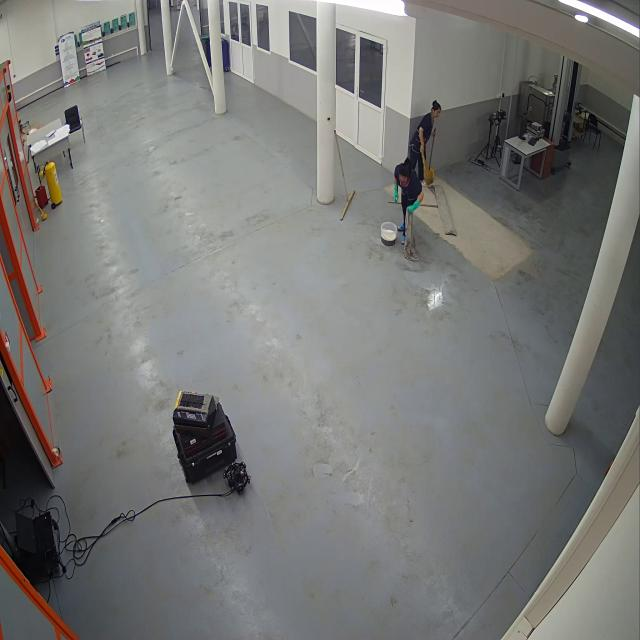NO-Hardhat: (396, 164, 407, 182), (432, 100, 442, 110)
Person: (390, 155, 426, 255), (410, 96, 441, 187)
